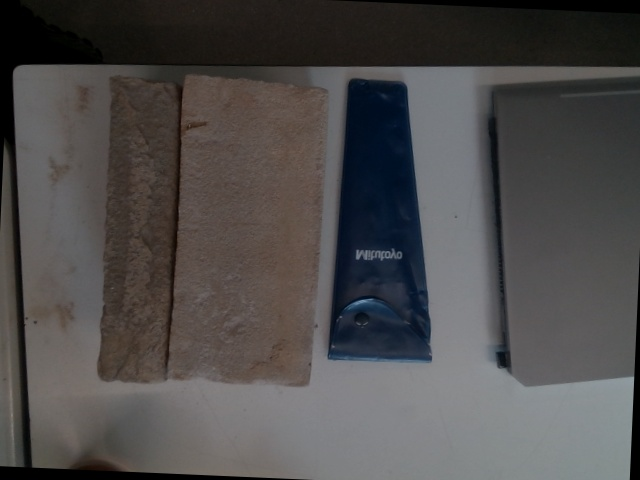brick: (162, 77, 331, 382)
